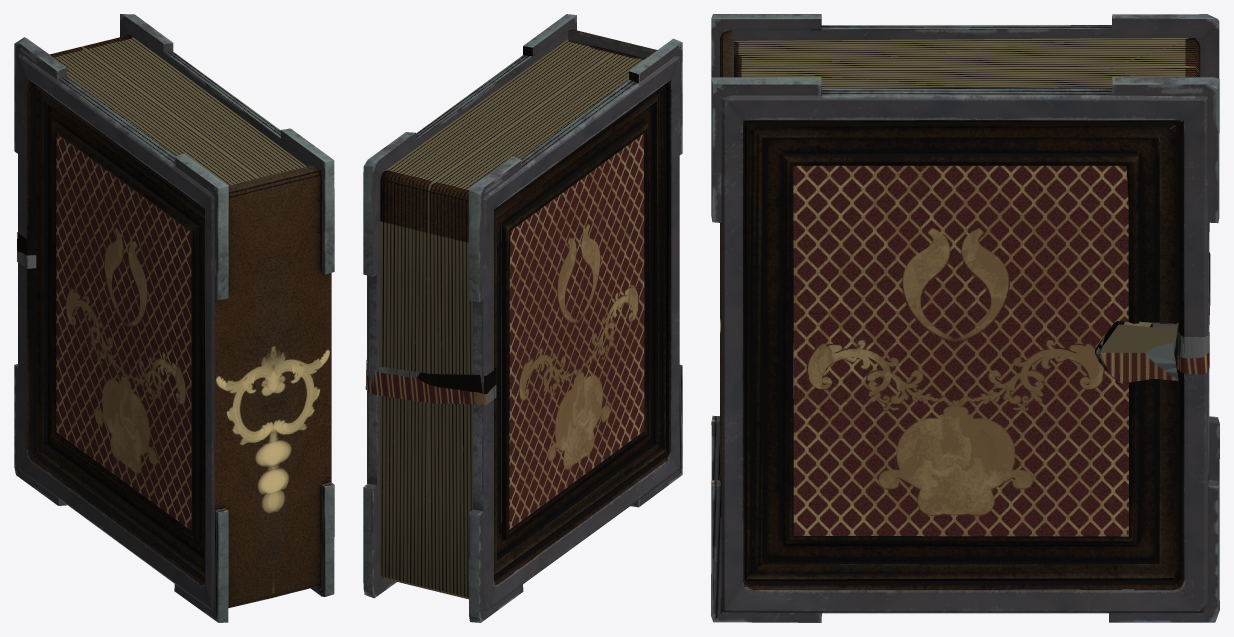
File: SM_Books_book1.FBX
3 renders of one model, left to right at view 1: azimuth 30°, elevation 25°; view 2: azimuth 150°, elevation 25°; view 3: azimuth 270°, elevation 25°, orthographic. The views are drawn at different scales.
Parts seen in each view (by area): view 1: SM_Books_book1; view 2: SM_Books_book1; view 3: SM_Books_book1.
Boxes of the visible parts, left/top/right/bottom form: SM_Books_book1: left=14, top=14, right=334, bottom=622; SM_Books_book1: left=363, top=14, right=682, bottom=622; SM_Books_book1: left=711, top=14, right=1219, bottom=622.
Size of the model in its own units: 11.72 by 34.08 by 40.04.
